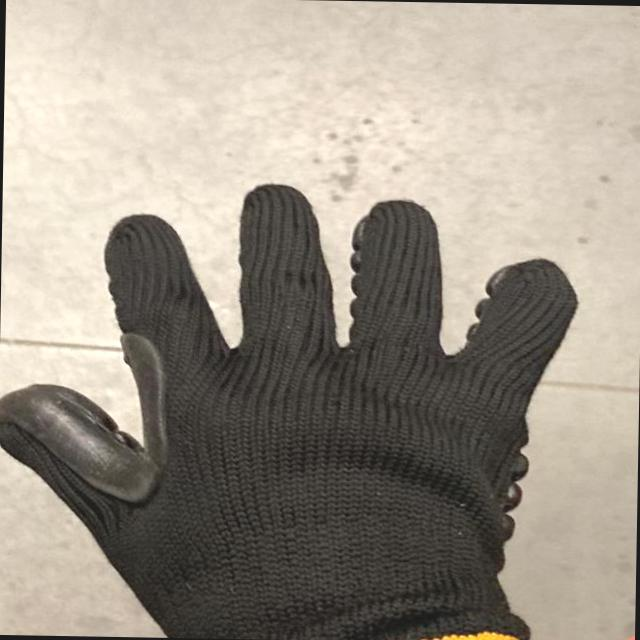gloves: (0, 177, 585, 640)
